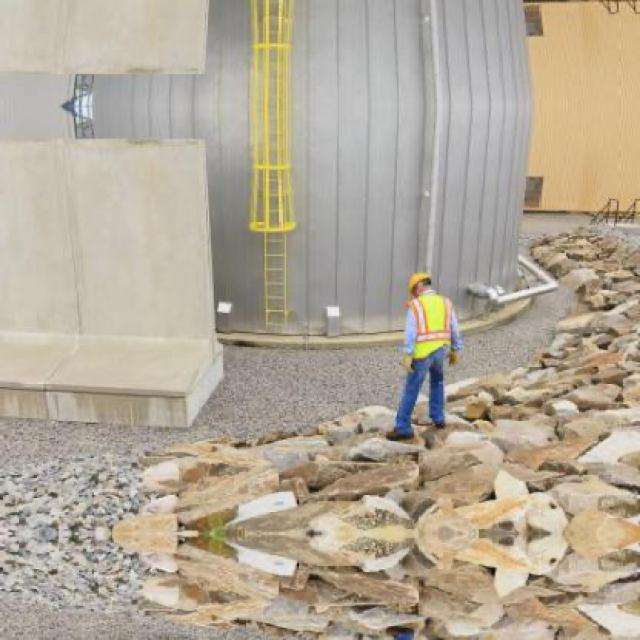helmet: (408, 270, 435, 304)
